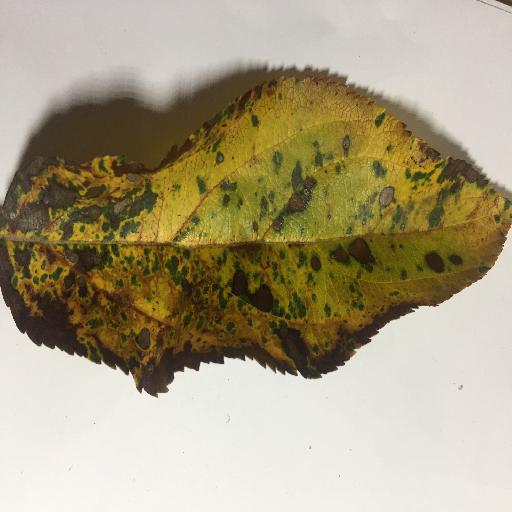Brown_Spot: (1, 129, 338, 380), (402, 143, 484, 222), (361, 183, 394, 218), (350, 234, 379, 268), (423, 250, 463, 270)
